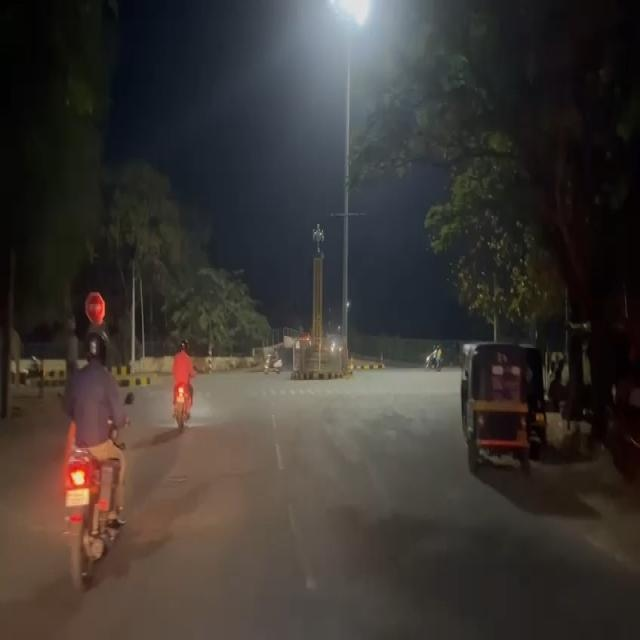bien_nguy_hiem: (83, 280, 107, 329)
